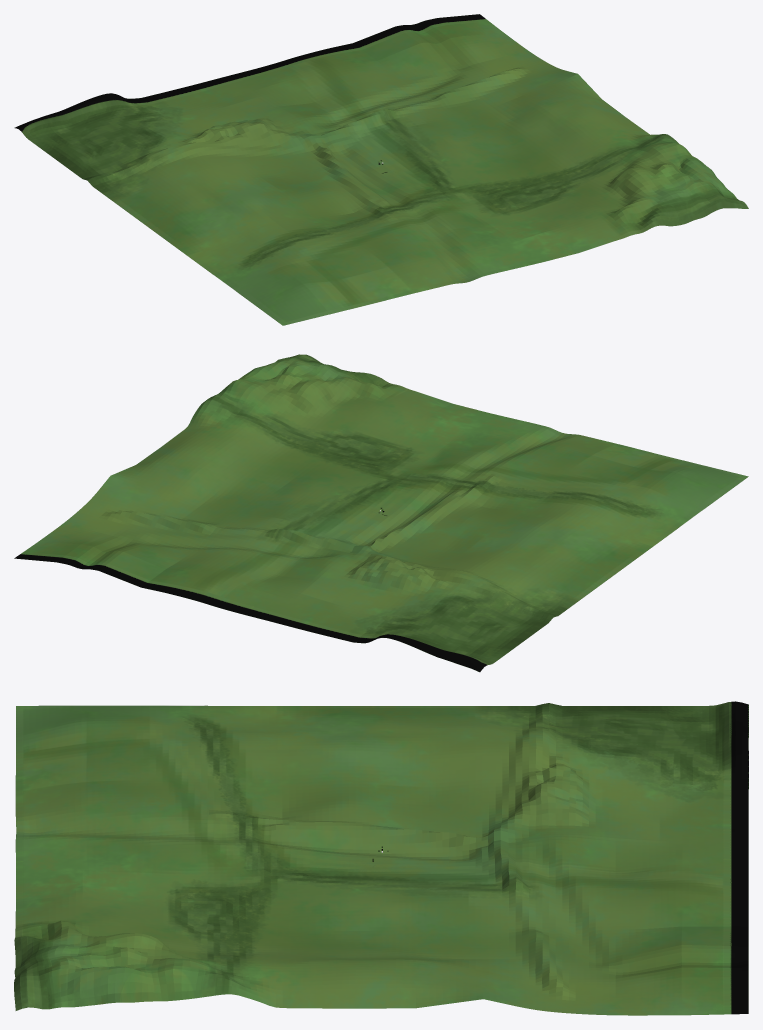
The model's file is triangulation_test_3.gltf.
3 renders of one model, top to bottom at view 1: azimuth 30°, elevation 25°; view 2: azimuth 150°, elevation 25°; view 3: azimuth 270°, elevation 25°, orthographic. The views are drawn at different scales.
Visible parts, largest first — view 1: Plane; view 2: Plane; view 3: Plane.
Part boxes in pixels (box(x1,y1,x2,y2)): Plane: box(14, 14, 748, 325); Plane: box(14, 354, 748, 672); Plane: box(14, 701, 748, 1015).
Bounding box in the file's own units: 997 × 64.32 × 995.
Materials: 1 (1 with a texture image).
